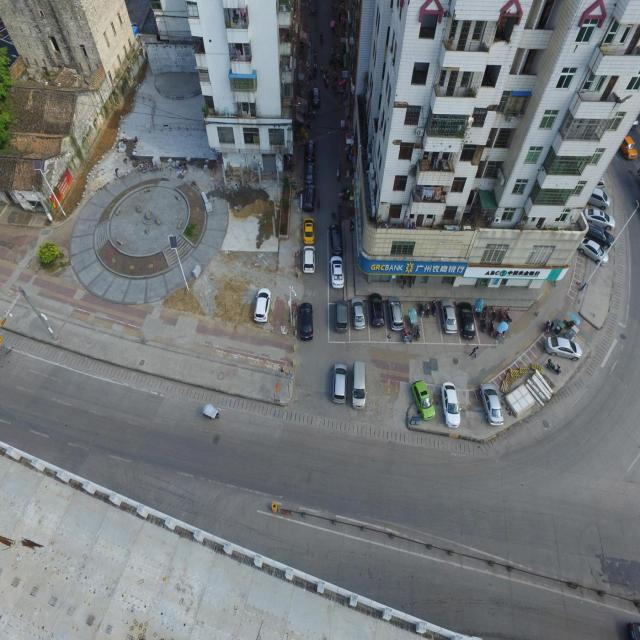car: (479, 382, 504, 426), (411, 380, 435, 420), (544, 336, 582, 361), (440, 381, 460, 428), (352, 361, 366, 408), (332, 363, 347, 404), (253, 288, 271, 322), (298, 302, 314, 340), (620, 134, 637, 160), (335, 299, 348, 332), (302, 246, 315, 273), (302, 216, 314, 244)
tree: (0, 45, 15, 152), (36, 241, 59, 266)
